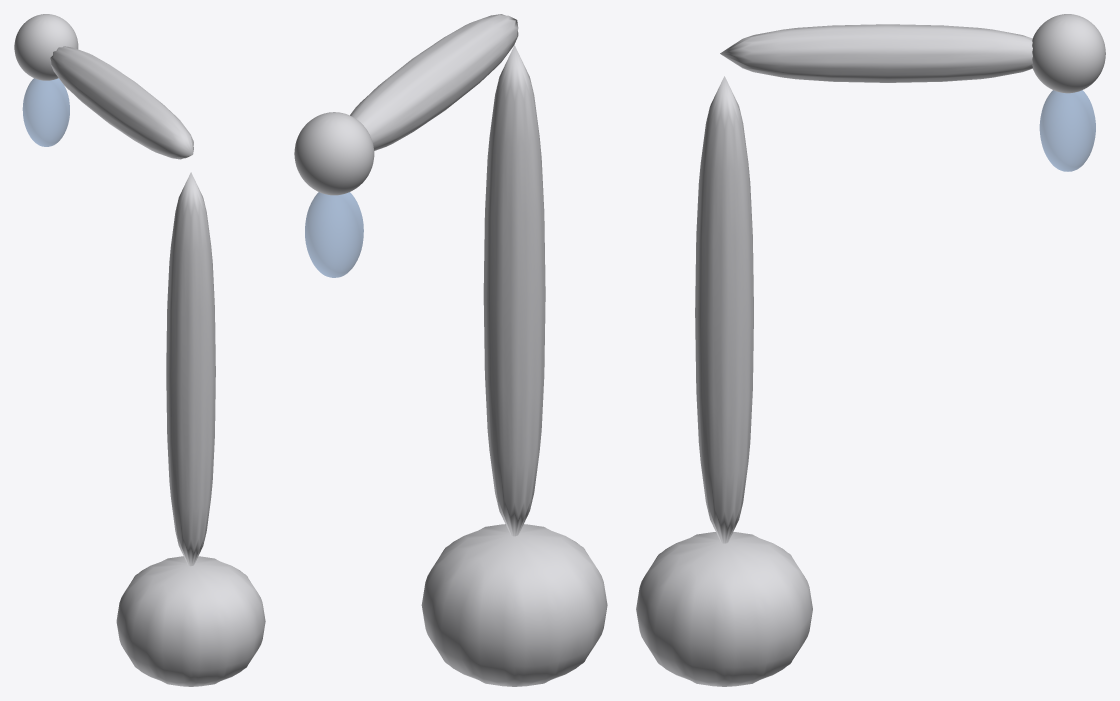
File: faucet.glb
3 views of the same model, side by side, from view 1: azimuth 30°, elevation 25°; view 2: azimuth 150°, elevation 25°; view 3: azimuth 270°, elevation 25° (orthographic). The views are drawn at different scales.
Parts seen in each view (by area): view 1: faucet; view 2: faucet; view 3: faucet.
Part boxes in pixels (x1,y1,x2,y2): faucet: (14, 14, 265, 686); faucet: (294, 14, 607, 686); faucet: (636, 14, 1105, 686).
Size of the model in its own units: 0.2165 by 0.8905 by 0.5748.
